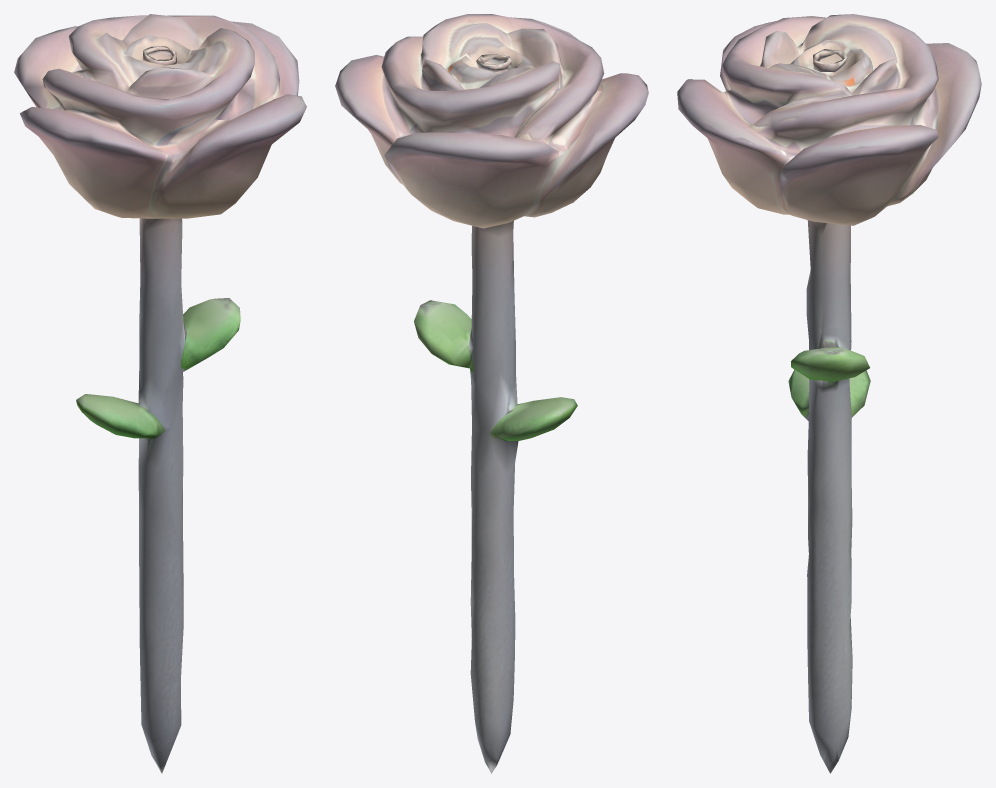
Rendered from DDP_장미한송이.glb.
3 renders of one model, left to right at view 1: azimuth 30°, elevation 25°; view 2: azimuth 150°, elevation 25°; view 3: azimuth 270°, elevation 25°, orthographic.
Parts seen in each view (by area): view 1: texture_mapping; view 2: texture_mapping; view 3: texture_mapping.
Boxes of the visible parts, x1,y1,x2,y2 form: texture_mapping: (14,14,306,773); texture_mapping: (335,14,648,773); texture_mapping: (677,14,981,773).
Size of the model in its own units: 0.3846 by 1.01 by 0.3833.
1 material, 1 textured.
